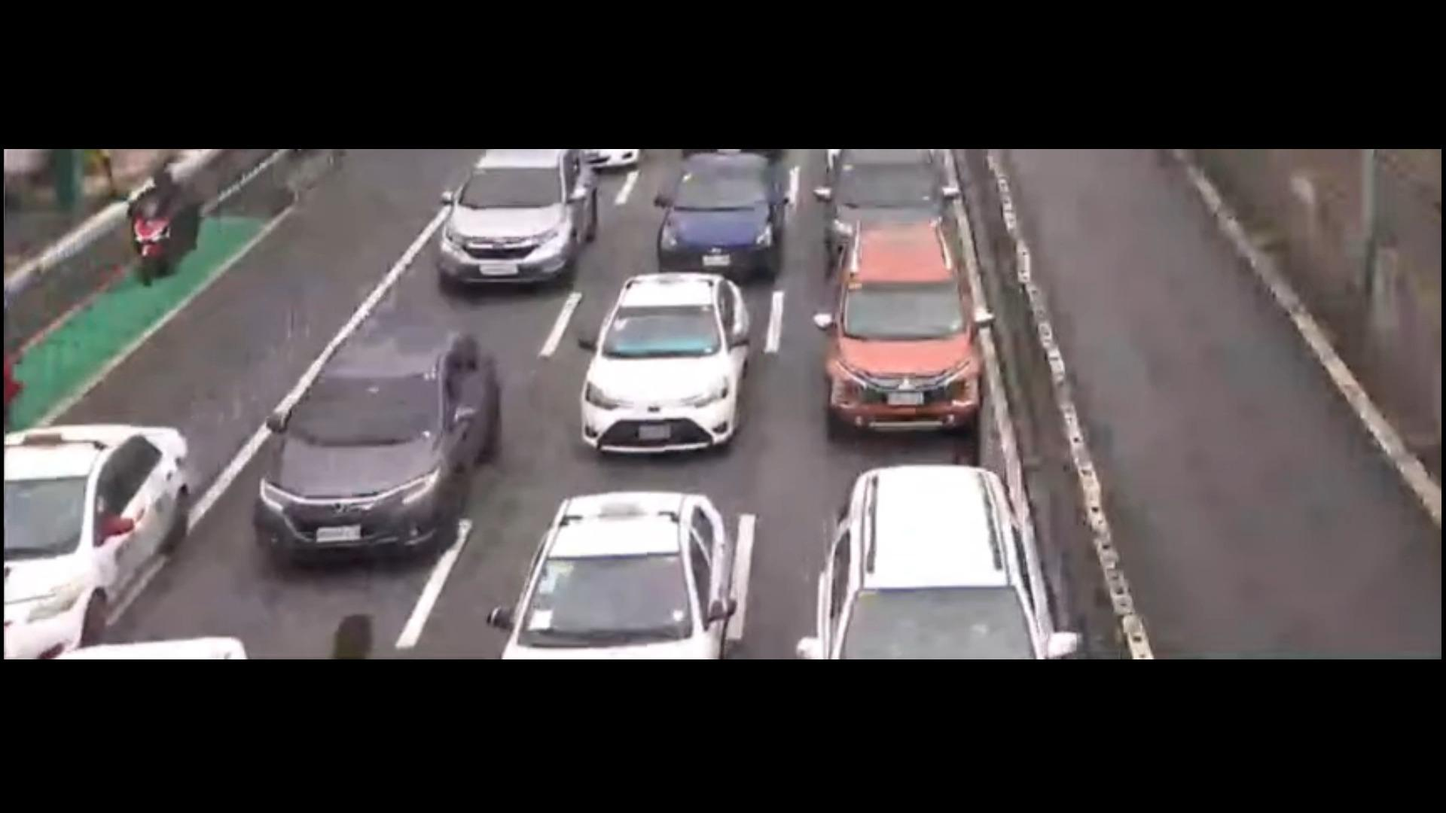Motorcycle: (115, 151, 205, 277)
SUV: (813, 465, 1060, 661), (828, 228, 994, 431), (437, 147, 587, 292)
Sedan: (254, 320, 508, 565), (0, 422, 186, 646), (508, 487, 736, 655), (570, 277, 736, 465), (648, 154, 779, 269)
